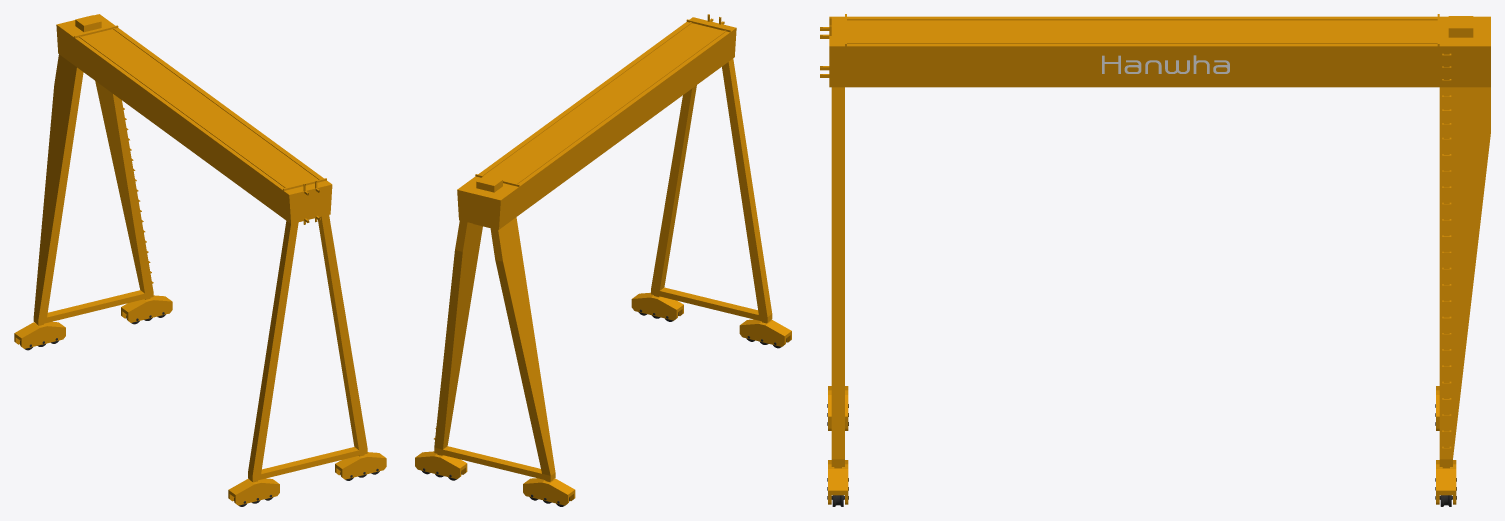
File: gc_04_body.glb
The picture shows the model from 3 angles, left to right: view 1: azimuth 30°, elevation 25°; view 2: azimuth 150°, elevation 25°; view 3: azimuth 270°, elevation 25°; orthographic projection. The views are drawn at different scales.
Parts seen in each view (by area): view 1: crane_body, crane_wheel_cover; view 2: crane_body, crane_wheel_cover; view 3: crane_body, crane_wheel_cover, logo.
Boxes of the visible parts, bbox=[...] form: crane_body: bbox=[33, 14, 367, 481]; crane_wheel_cover: bbox=[14, 295, 386, 505]; crane_body: bbox=[434, 14, 772, 481]; crane_wheel_cover: bbox=[415, 292, 791, 505]; crane_body: bbox=[820, 14, 1490, 466]; crane_wheel_cover: bbox=[828, 386, 1456, 504]; logo: bbox=[1102, 55, 1229, 73].
Bounding box in the file's own units: 11.22 × 21.93 × 30.41.
